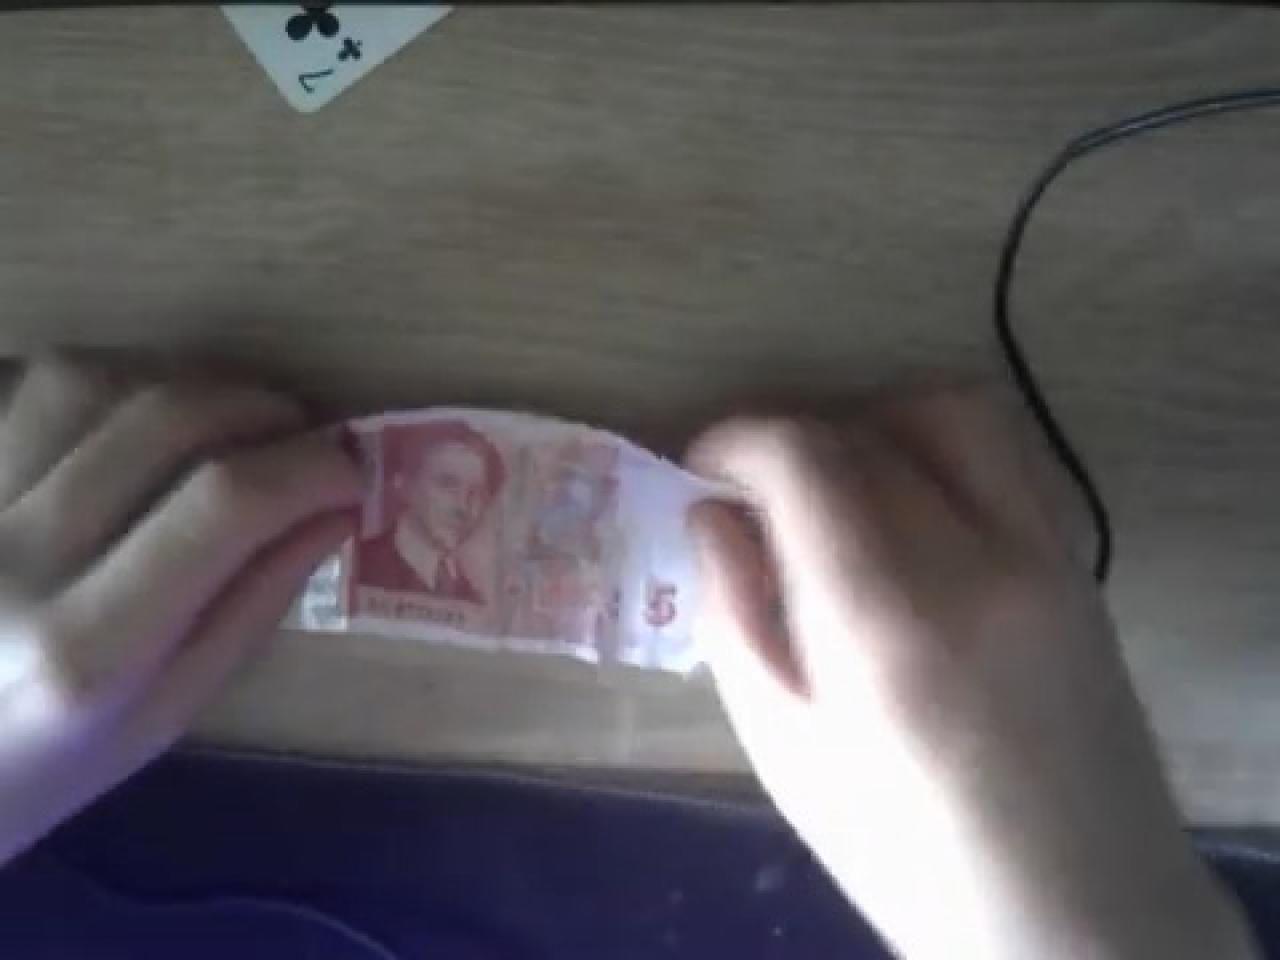5leva: (16, 400, 736, 778)
